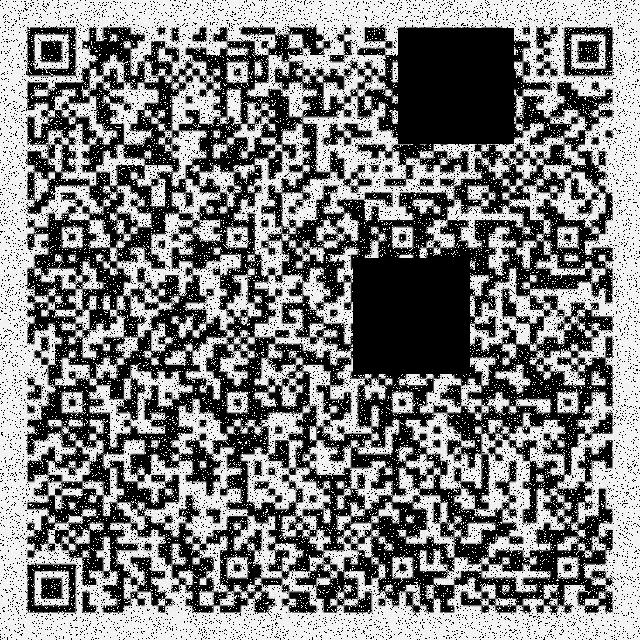QR_CODE: (19, 17, 624, 625)
